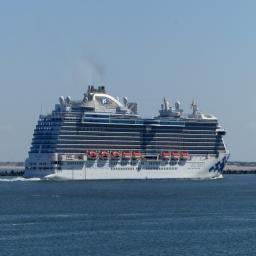cruises: (23, 85, 233, 185)
